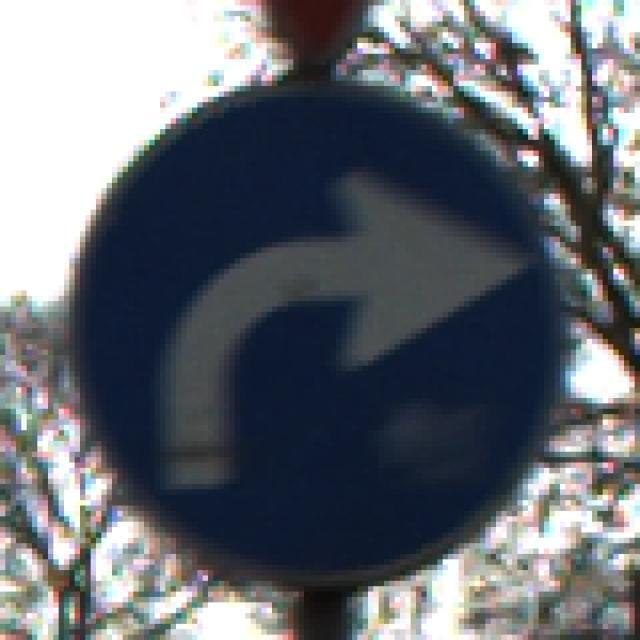compulsary turn right ahead: (70, 86, 567, 581)
